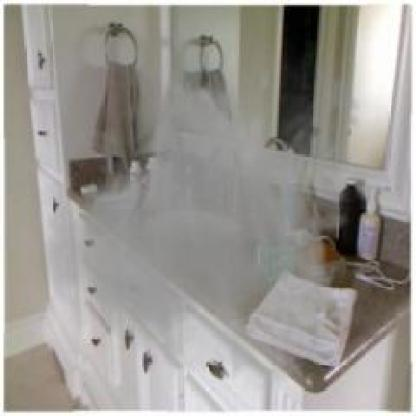Smoke: (34, 39, 372, 394)
